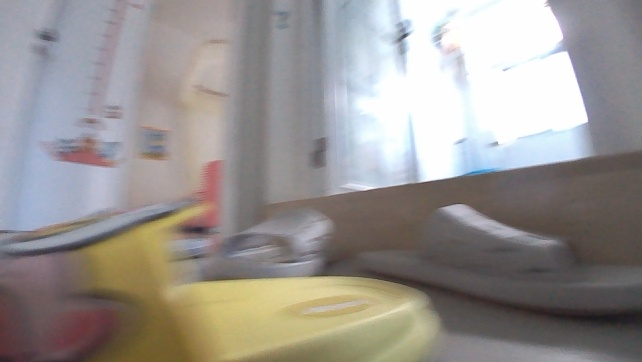slipper: (0, 200, 444, 361), (350, 200, 641, 320)
